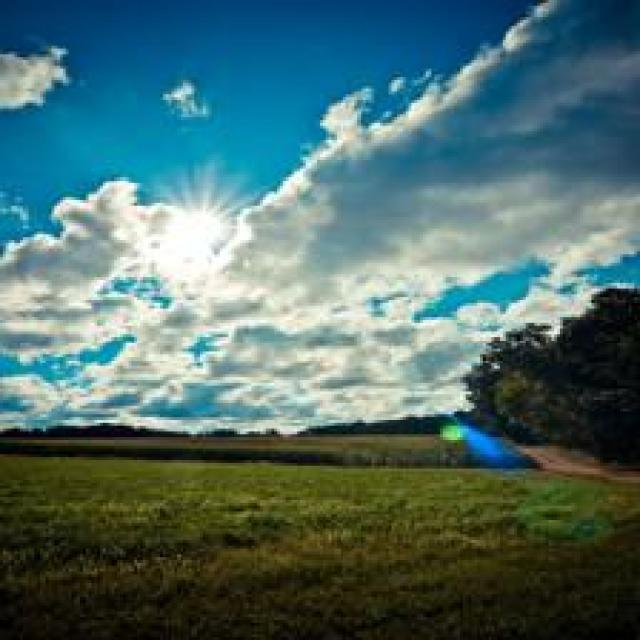sun: (136, 199, 242, 296)
